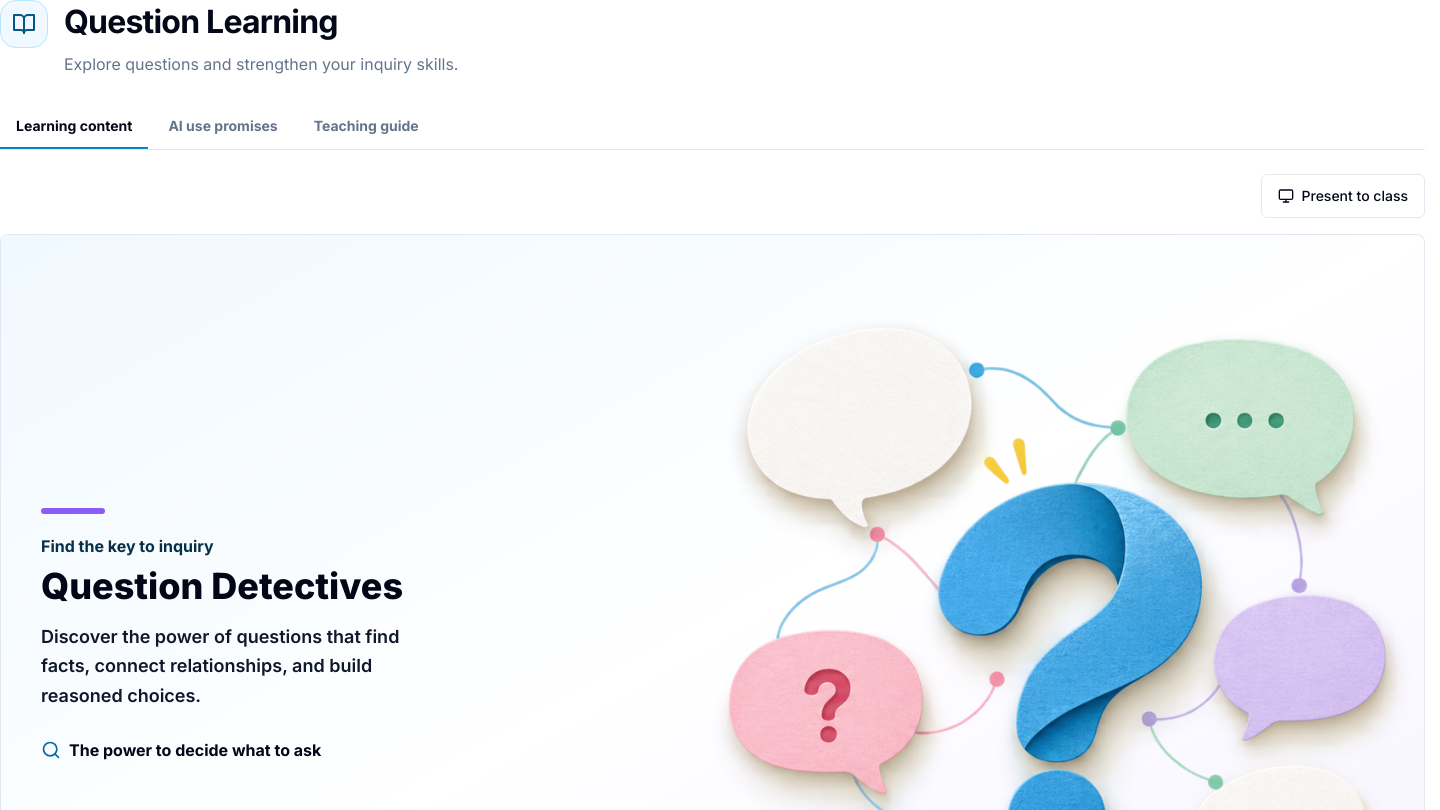
Test: 영어 화면에서도 수업 화면의 버튼과 안내를 번역하여 표시한다
Click the button "Present to class" at (1343, 196), box [1260,174,1425,218]
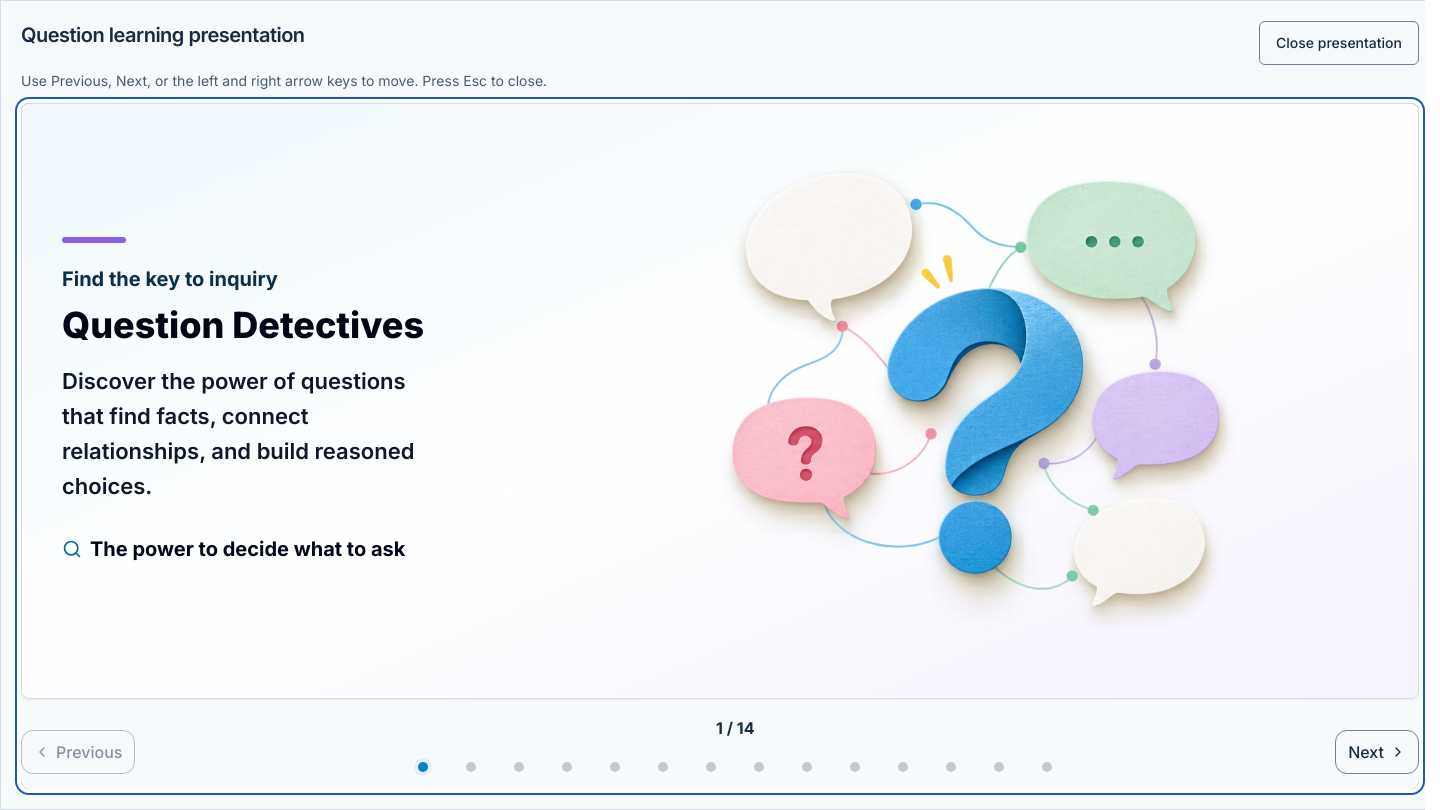
expect the text "Use Previous, Next, or the left and right arrow keys to move. Press Esc to close." is shown: met, box [21,72,547,89]
expect the button "Close presentation" is shown: met, box [1259,21,1419,65]
